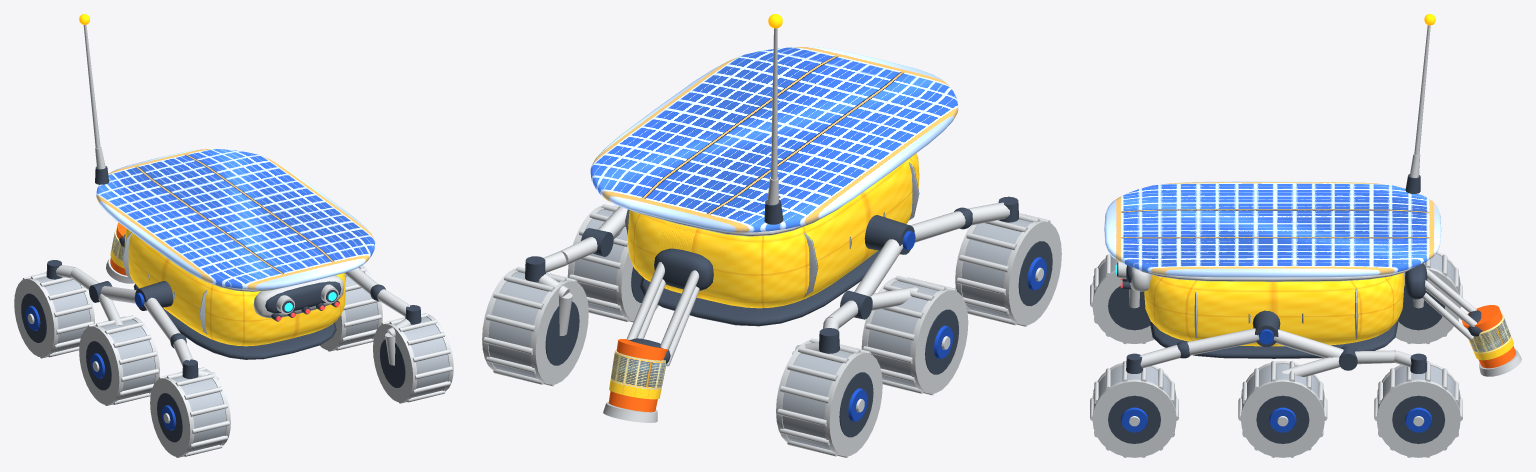
Rendered from sojourner.glb.
The picture shows the model from 3 angles, left to right: view 1: azimuth 30°, elevation 25°; view 2: azimuth 150°, elevation 25°; view 3: azimuth 270°, elevation 25°; orthographic projection. The views are drawn at different scales.
Visible parts, largest first — view 1: Chassis, WheelMR, WheelFR, WheelFL, WheelRR, WheelML, Antenna, APXSArm; view 2: Chassis, WheelRR, WheelFR, WheelRL, WheelMR, APXSArm, WheelML, Antenna; view 3: Chassis, WheelML, WheelRL, WheelFL, APXSArm, WheelFR, WheelRR, Antenna.
Boxes of the visible parts, box(x1,y1,x2,y2) form: Chassis: box(46, 149, 421, 379); WheelMR: box(79, 315, 159, 405); WheelFR: box(150, 367, 230, 457); WheelFL: box(373, 313, 453, 403); WheelRR: box(14, 272, 94, 358); WheelML: box(320, 265, 382, 351); Antenna: box(79, 14, 108, 184); APXSArm: box(106, 222, 134, 283); Chassis: box(525, 47, 1018, 354); WheelRR: box(776, 338, 882, 457); WheelFR: box(955, 213, 1061, 326); WheelRL: box(482, 266, 588, 386); WheelMR: box(861, 275, 968, 395); APXSArm: box(603, 248, 713, 422); WheelML: box(567, 204, 658, 322); Antenna: box(764, 14, 783, 224); Chassis: box(1104, 181, 1441, 376); WheelML: box(1238, 361, 1327, 457); WheelRL: box(1374, 361, 1462, 457); WheelFL: box(1090, 361, 1178, 457); APXSArm: box(1405, 263, 1521, 376); WheelFR: box(1090, 254, 1154, 344); WheelRR: box(1395, 251, 1462, 344); Antenna: box(1405, 14, 1435, 193).
Bounding box in the file's own units: 0.522 × 0.594 × 0.6869.
10 materials, 2 textured.
